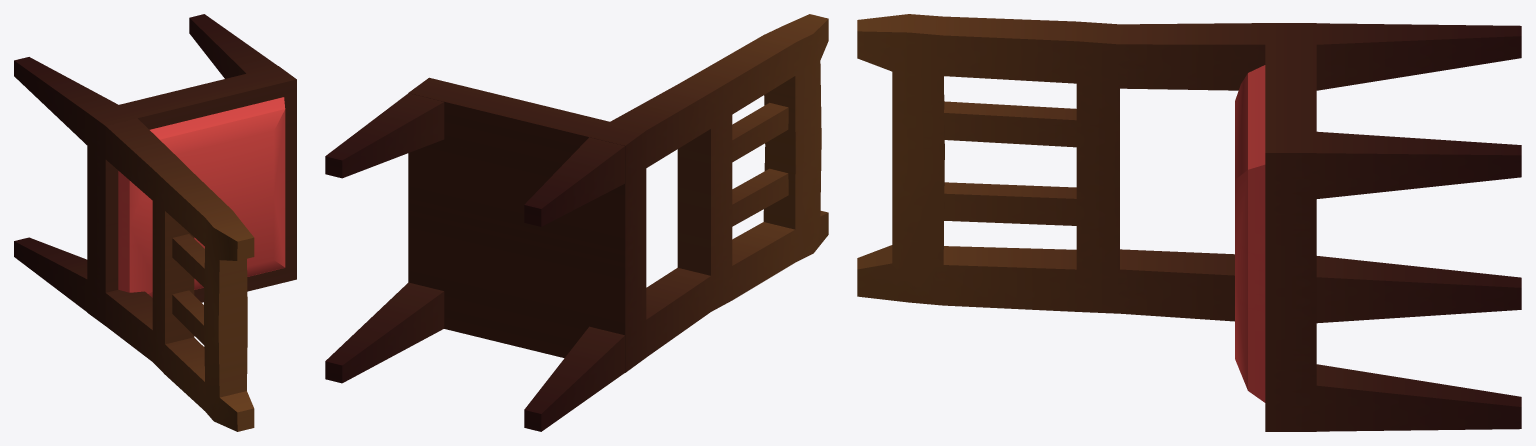
Rendered from DiningChair.fbx.
The picture shows the model from 3 angles, left to right: view 1: azimuth 30°, elevation 25°; view 2: azimuth 150°, elevation 25°; view 3: azimuth 270°, elevation 25°; orthographic projection. The views are drawn at different scales.
Visible parts, largest first — view 1: DiningChair; view 2: DiningChair; view 3: DiningChair.
Part boxes in pixels (x1,y1,x2,y2): DiningChair: [14, 14, 296, 431]; DiningChair: [325, 14, 828, 431]; DiningChair: [857, 14, 1521, 431].
Bounding box in the file's own units: 66.54 × 60 × 130.
